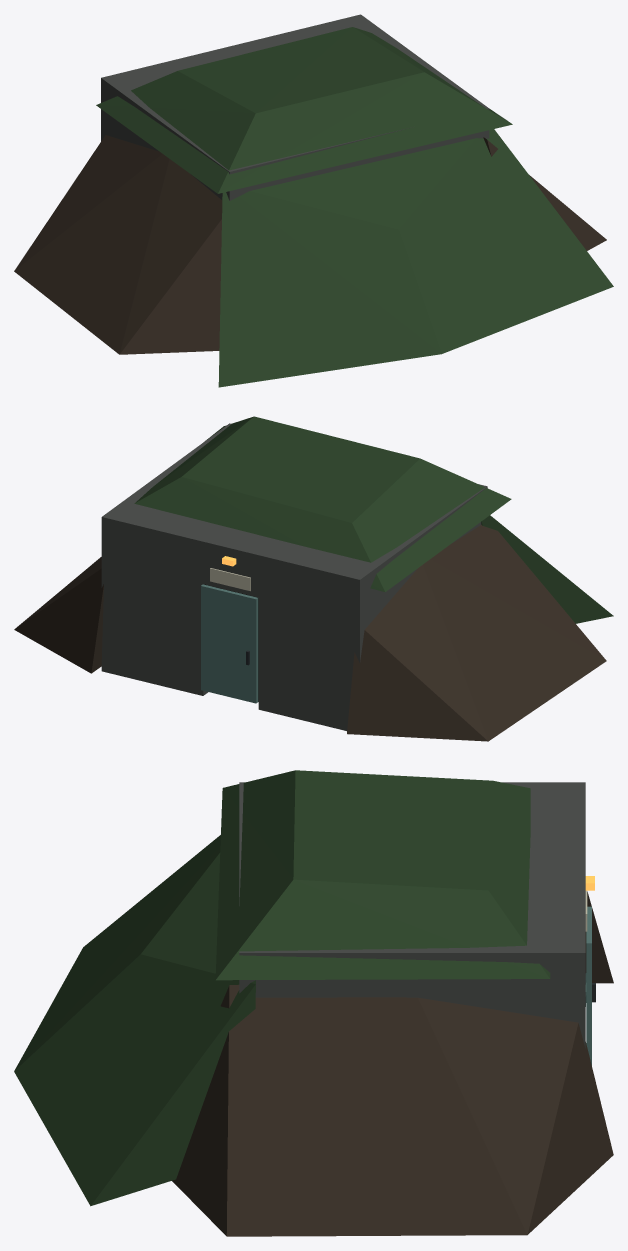
The model's file is shelter_exterior.glb.
3 renders of one model, top to bottom at view 1: azimuth 30°, elevation 25°; view 2: azimuth 150°, elevation 25°; view 3: azimuth 270°, elevation 25°, orthographic. The views are drawn at different scales.
Visible parts, largest first — view 1: earth, body; view 2: earth, body, hatch_slab, sign; view 3: earth, body, hatch_slab.
Boxes of the visible parts, x1,y1,x2,y2 form: earth: [14, 27, 613, 387]; body: [101, 14, 489, 200]; earth: [14, 416, 613, 741]; body: [101, 423, 487, 730]; hatch_slab: [201, 584, 258, 703]; sign: [210, 568, 250, 591]; earth: [14, 770, 613, 1236]; body: [239, 782, 585, 1048]; hatch_slab: [586, 906, 591, 1065].
Size of the model in its own units: 13.14 by 4.86 by 10.4.
